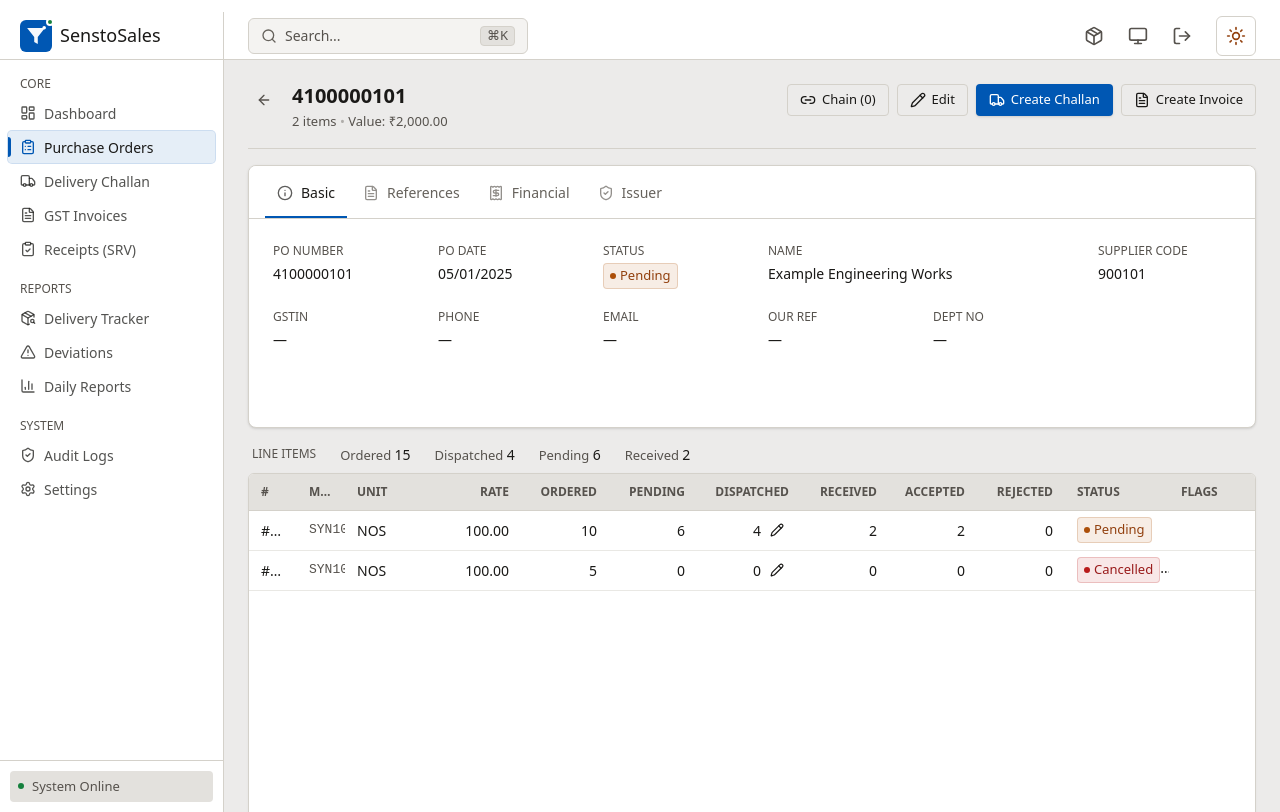
it: /po/:id (SPEC-16 PR 2) › shows the header fields read from the PO page by label
Expected: the text "900101" is shown, [1098,264,1146,283]
Expected: the text "Example Engineering Works" is shown, [768,264,952,283]
Click the tab "References" at (411, 194), box [351,170,472,218]
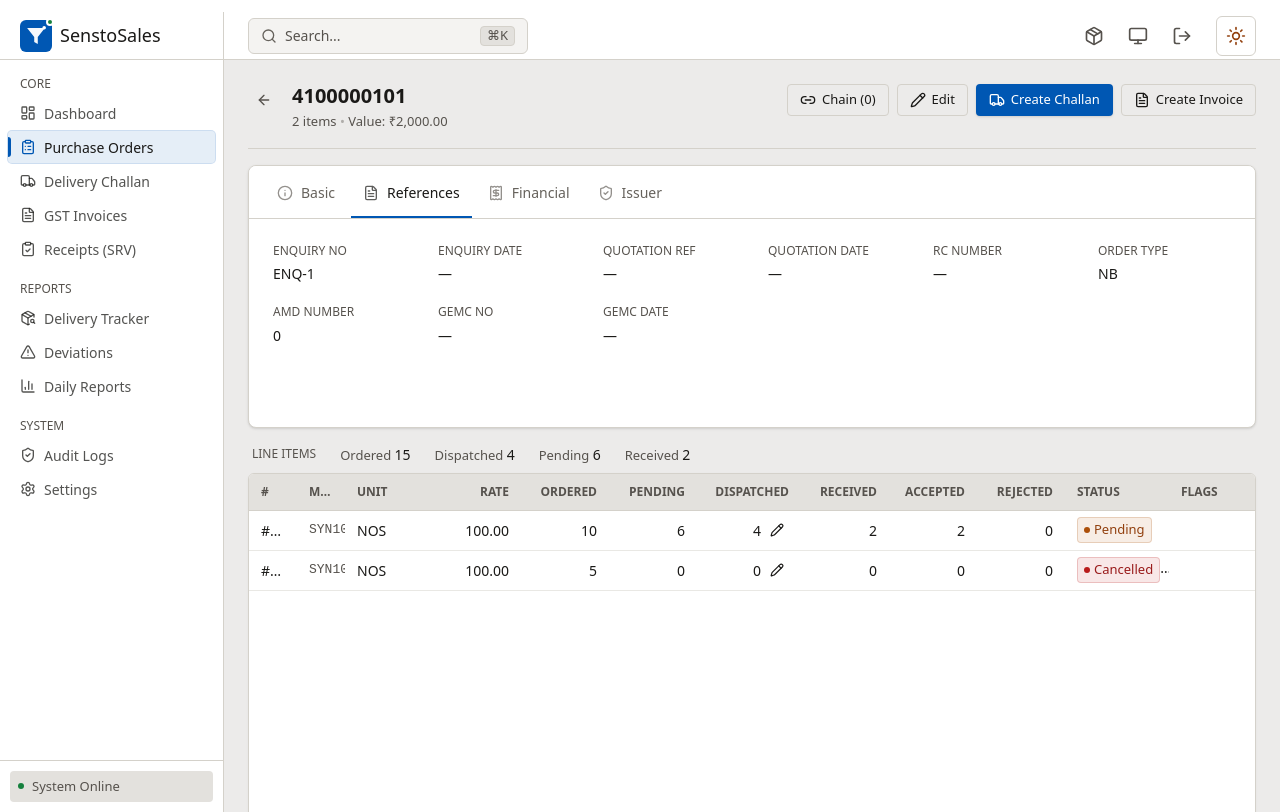
Now the text "ENQ-1" is shown, box [273,264,315,283]
